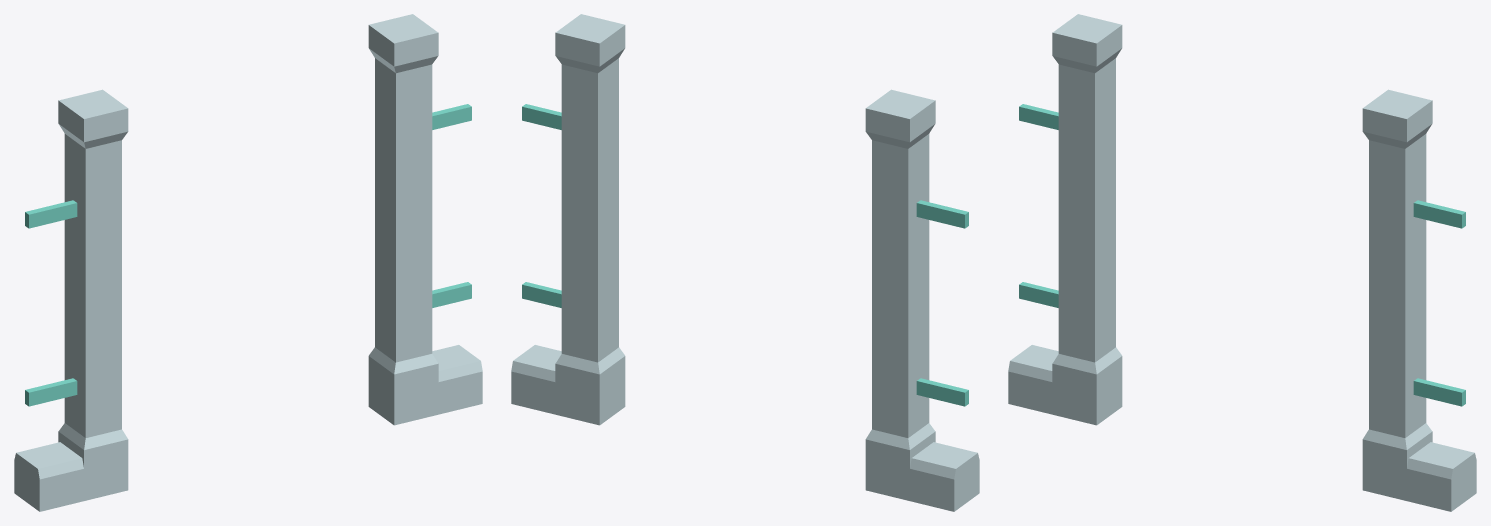
The model's file is ironFenceBorderGate.glb.
3 views of the same model, side by side, from view 1: azimuth 30°, elevation 25°; view 2: azimuth 150°, elevation 25°; view 3: azimuth 330°, elevation 25° (orthographic).
Visible parts, largest first — view 1: ironFenceBorderGate; view 2: ironFenceBorderGate; view 3: ironFenceBorderGate.
Part boxes in pixels (left/top/right/bottom): ironFenceBorderGate: left=14, top=14, right=482, bottom=511; ironFenceBorderGate: left=511, top=14, right=979, bottom=511; ironFenceBorderGate: left=1008, top=14, right=1476, bottom=511.
Size of the model in its own units: 1 by 0.8239 by 0.1.
